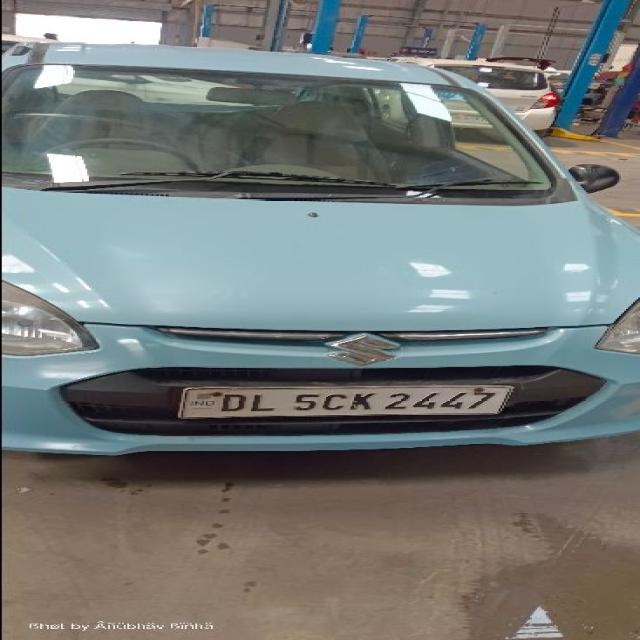license_plate: (176, 383, 515, 419)
